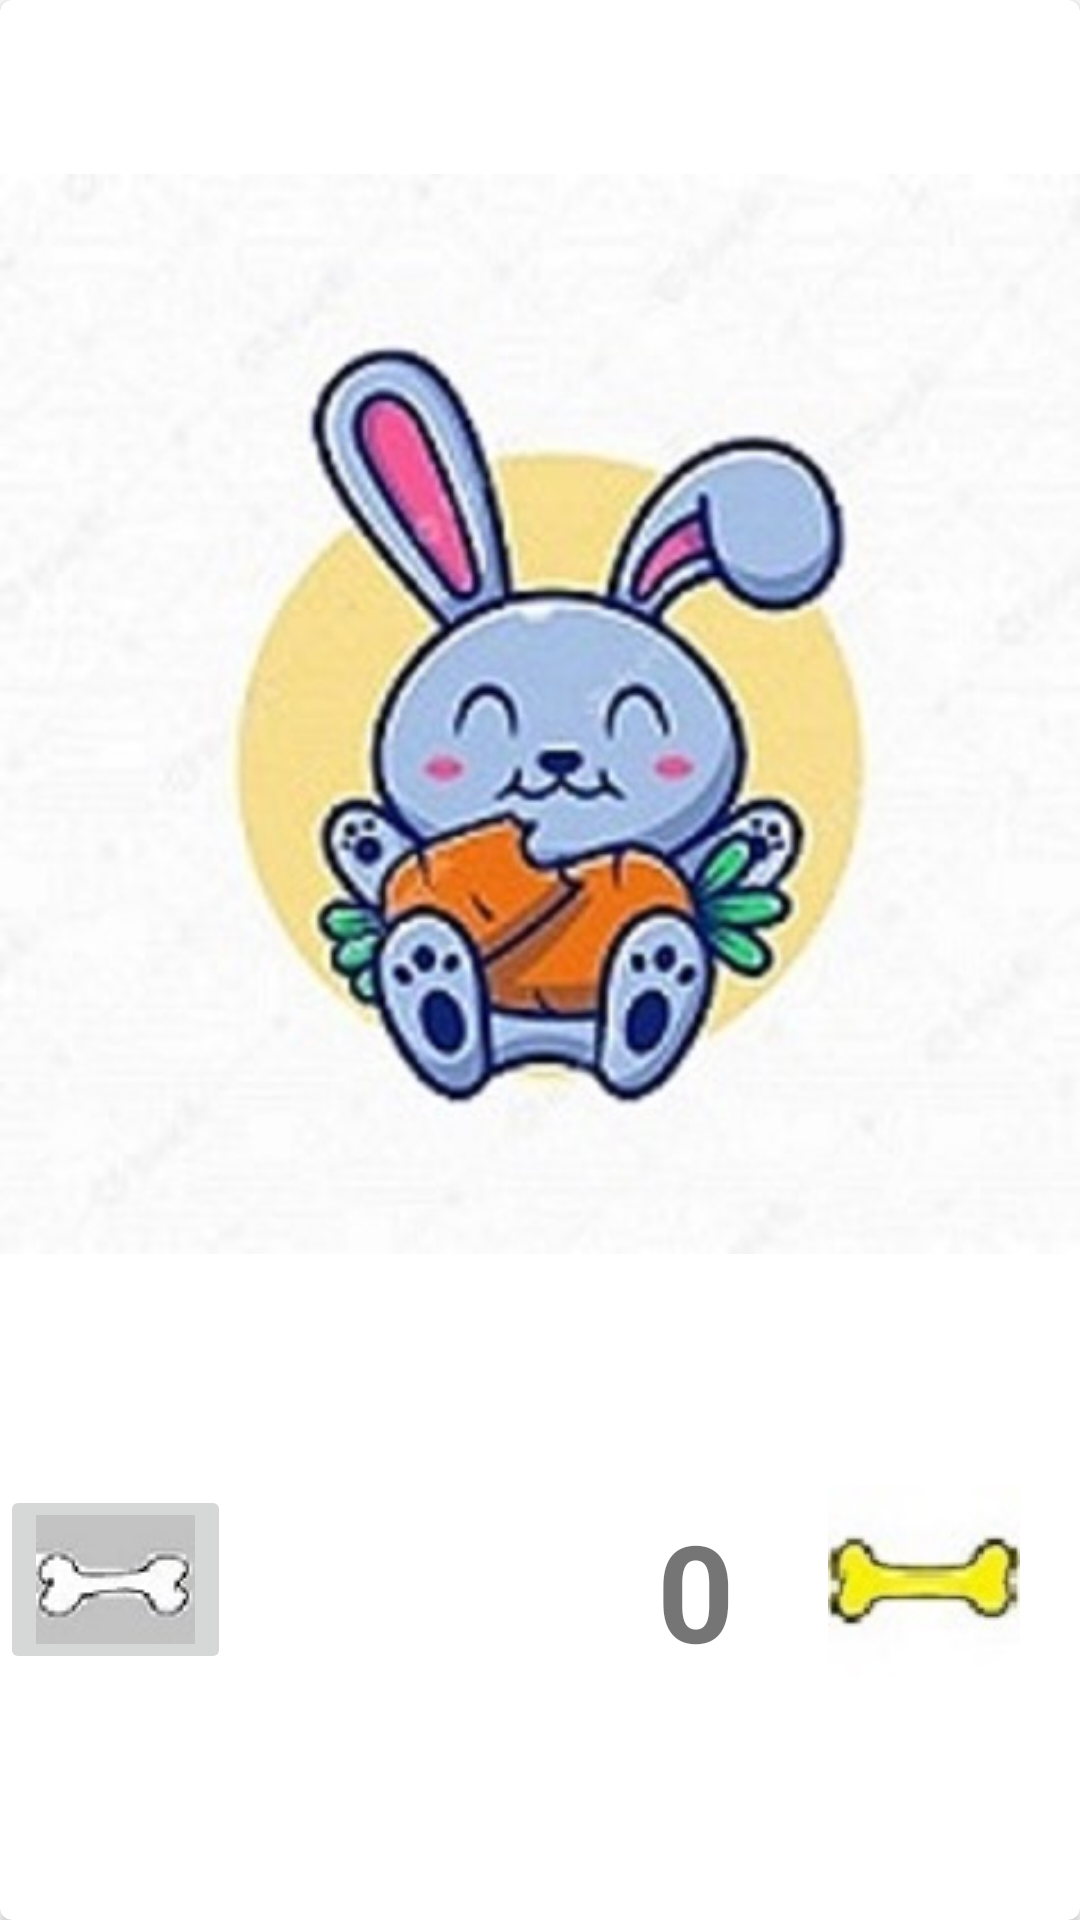

Where to tap for icons on this 1080w x 1920h app screen, as point (x, y):
hueso amarillo: point (924, 1581)
hueso blanco: point (115, 1579)
